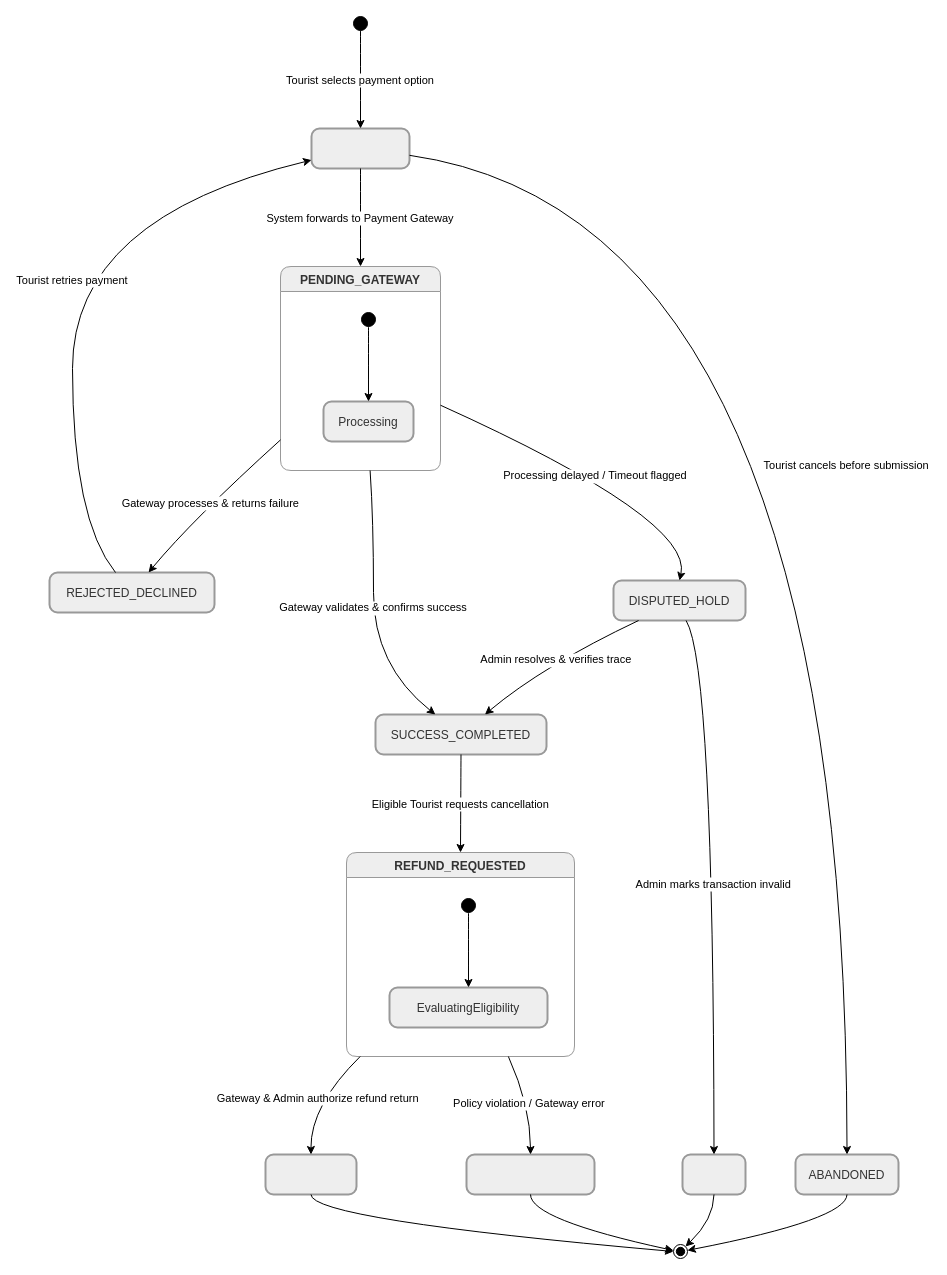
The diagram is 947 pixels wide and 1275 high, and some of its shapes have lost their labels. Each missing label, with the centre of its shape:
FAILED: point (713, 1174)
INITIALIZED: point (360, 148)
REFUND_FAILED: point (530, 1174)
REFUNDED: point (310, 1174)
